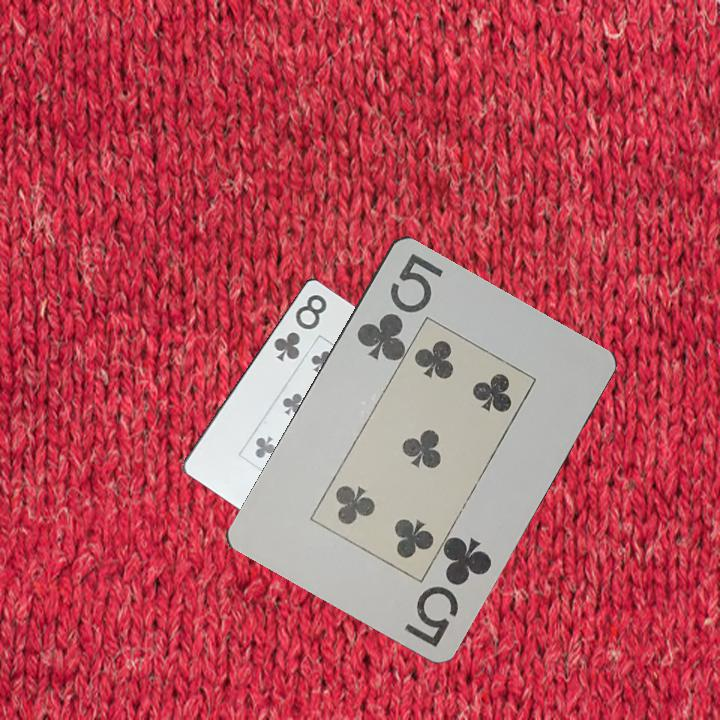5c: (400, 532, 495, 650), (352, 249, 447, 363)
8c: (270, 290, 330, 364)
